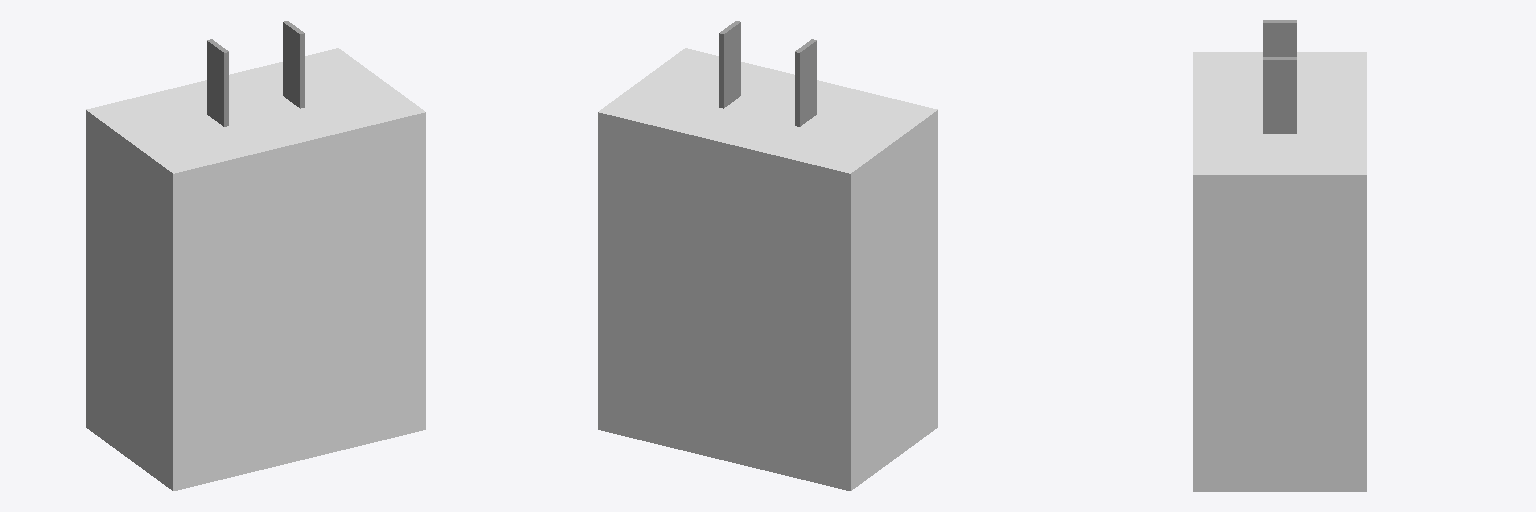
robot.urdf — phone_charger:
<?xml version="1.0"?>
<robot name="phone_charger">

  <material name="white">
    <color rgba="0.95 0.95 0.95 1"/>
  </material>
  <material name="metal">
    <color rgba="0.7 0.7 0.7 1"/>
  </material>

  <!-- 充电器本体 -->
  <link name="charger_body">
    <visual>
      <geometry><box size="0.05 0.03 0.06"/></geometry>
      <material name="white"/>
    </visual>
    <collision>
      <geometry><box size="0.05 0.03 0.06"/></geometry>
    </collision>
    <inertial>
      <mass value="0.08"/>
      <inertia ixx="0.0001" ixy="0" ixz="0"
               iyy="0.0001" iyz="0"
               izz="0.0001"/>
    </inertial>
  </link>

  <!-- 插脚（左） -->
  <link name="pin_1">
    <visual>
      <geometry><box size="0.001 0.006 0.015"/></geometry>
      <material name="metal"/>
    </visual>
    <collision>
      <geometry><box size="0.001 0.002 0.013"/></geometry>
    </collision>
  </link>

  <joint name="pin_1_joint" type="fixed">
    <parent link="charger_body"/>
    <child link="pin_1"/>
    <origin xyz="-0.0075 0 0.0365"/>
  </joint>

  <!-- 插脚（右） -->
  <link name="pin_2">
    <visual>
      <geometry><box size="0.001 0.006 0.015"/></geometry>
      <material name="metal"/>
    </visual>
    <collision>
      <geometry><box size="0.001 0.002 0.013"/></geometry>
    </collision>
  </link>

  <joint name="pin_2_joint" type="fixed">
    <parent link="charger_body"/>
    <child link="pin_2"/>
    <origin xyz="0.0075 0 0.0365"/>
  </joint>

</robot>

--- What the picture shows (computed from the rendered views, not written in the file) ---
3 views of the same robot in one strip: view 1: azimuth 30°, elevation 25°; view 2: azimuth 150°, elevation 25°; view 3: azimuth 270°, elevation 25° (orthographic).
Robot: phone_charger — 3 links, 2 joints (2 fixed); root link charger_body; default pose: every joint at zero.
Visible links, largest first — view 1: charger_body, pin_1, pin_2; view 2: charger_body, pin_1, pin_2; view 3: charger_body, pin_2, pin_1.
Boxes of the visible links, x1=… form: charger_body: x1=86, y1=48, x2=425, y2=490; pin_1: x1=207, y1=39, x2=228, y2=126; pin_2: x1=283, y1=21, x2=304, y2=108; charger_body: x1=598, y1=48, x2=937, y2=490; pin_1: x1=795, y1=39, x2=816, y2=126; pin_2: x1=719, y1=21, x2=740, y2=108; charger_body: x1=1193, y1=52, x2=1366, y2=491; pin_2: x1=1263, y1=57, x2=1296, y2=133; pin_1: x1=1263, y1=20, x2=1296, y2=56.
Size in the robot's own frame: 0.05 by 0.03 by 0.074 metres.
Geometry: primitives only (box / cylinder / sphere), no mesh files.
